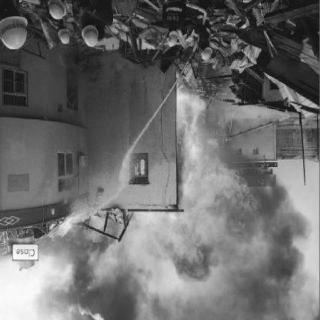Fire: (176, 67, 267, 286), (51, 216, 203, 276), (133, 160, 149, 180)
other: (199, 44, 216, 66), (165, 29, 178, 49)
